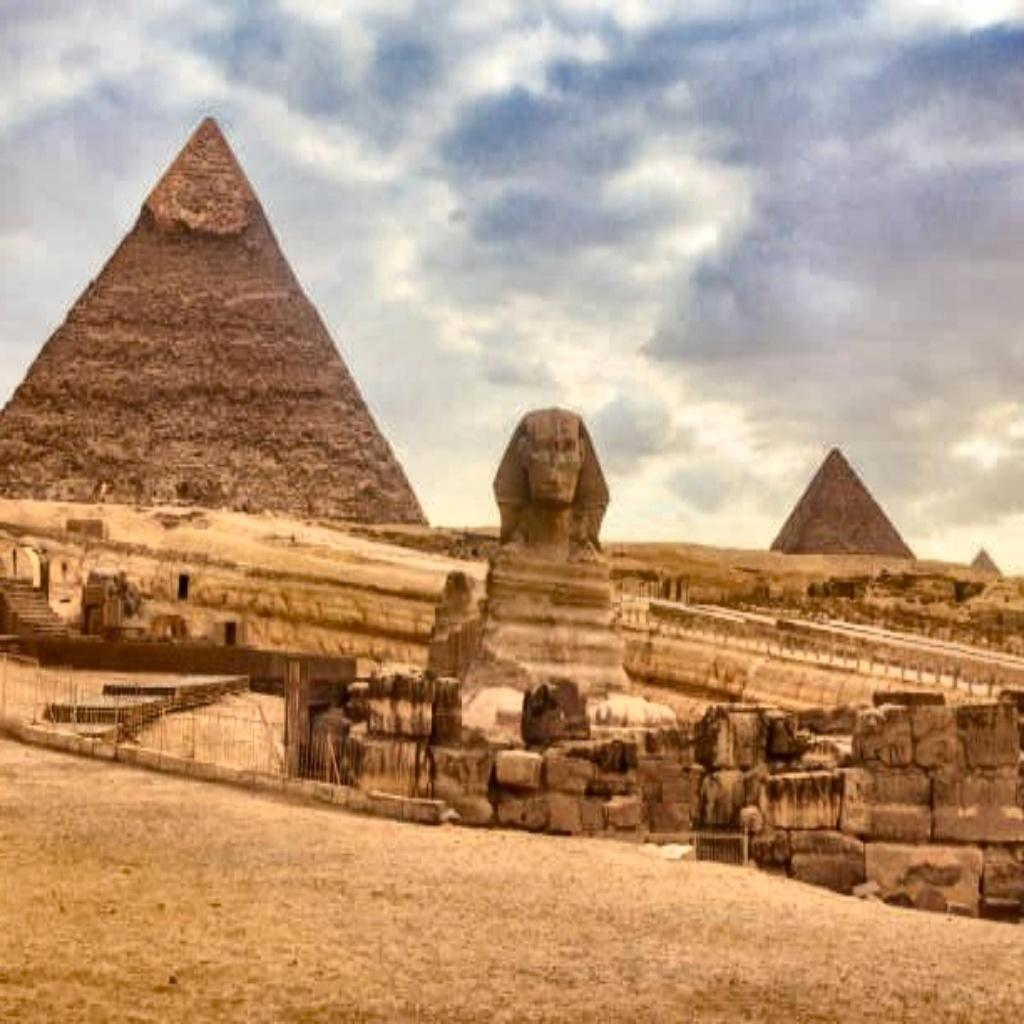Sphinx: (430, 402, 676, 738)
